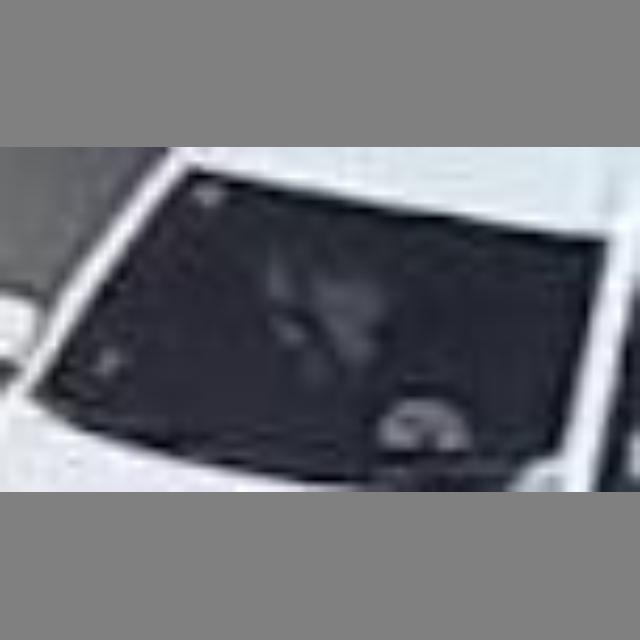pakai: (211, 214, 396, 416)
